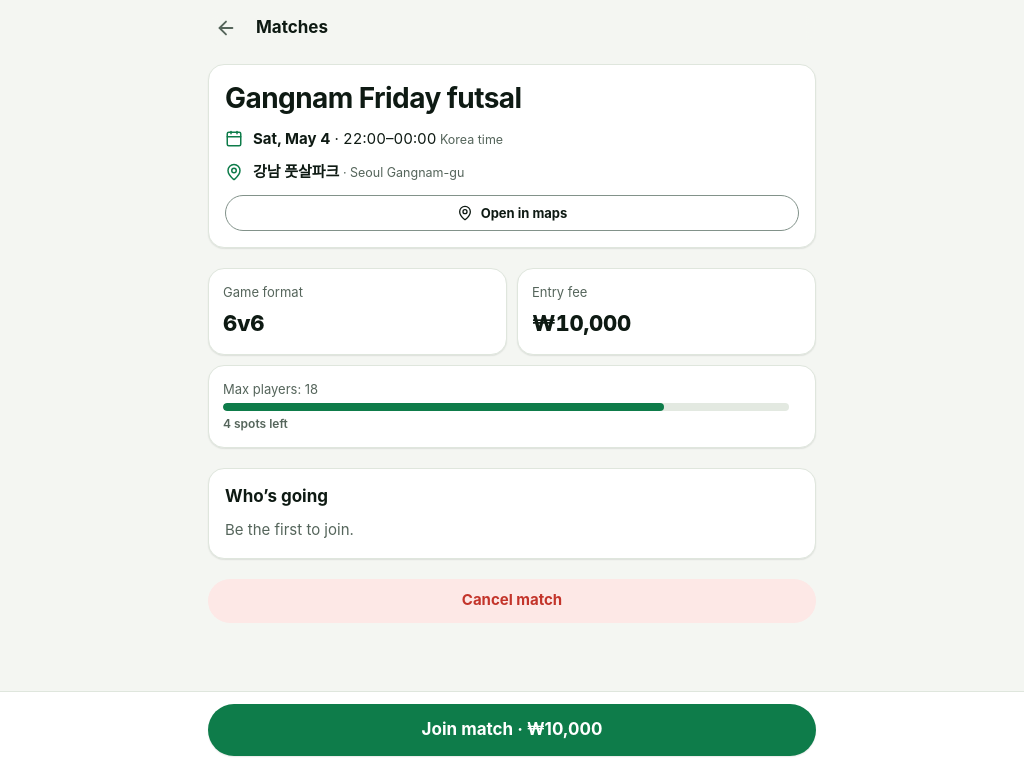
Test case: cancelling from the match page › is offered to an admin, who must confirm in the sheet before anything is sent
The width and height of the screenshot is (1024, 768).
Click the button "Cancel match": (512, 601) [208, 579, 816, 623]
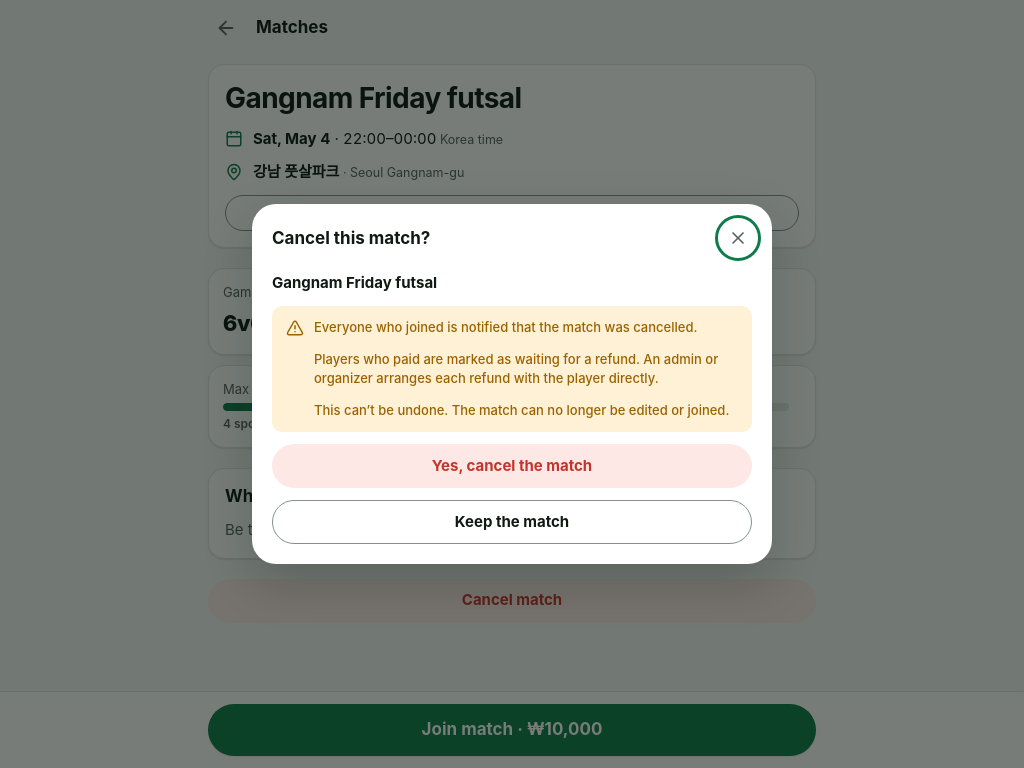
Check: the text "Gangnam Friday futsal" is shown, box [272, 273, 437, 292]
Check: the list item "Everyone who joined is notified that the match was cancelled." is shown, box [314, 318, 738, 338]
Check: the list item "marked as waiting for a refund" is shown, box [314, 351, 718, 386]
Click the button "Yes, cancel the match": (512, 466) [272, 444, 752, 488]
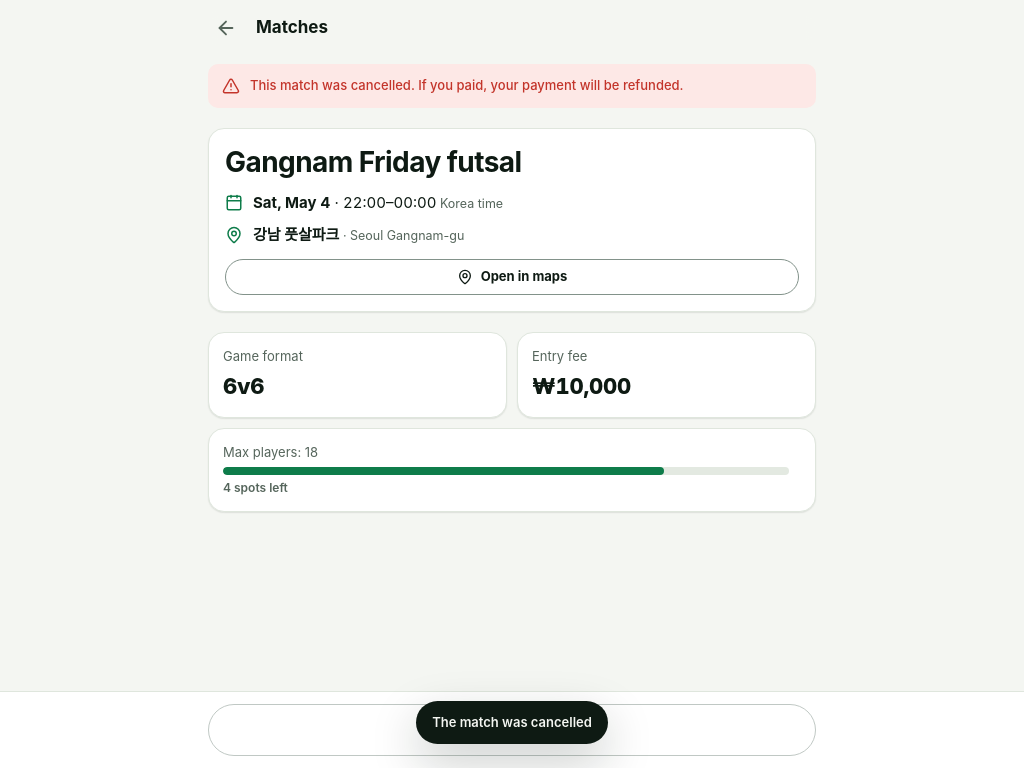
Check: the text "This match was cancelled. If you paid, your payment will be refunded." is shown, box [250, 76, 684, 96]
Check: the button "Cancel match" is gone
